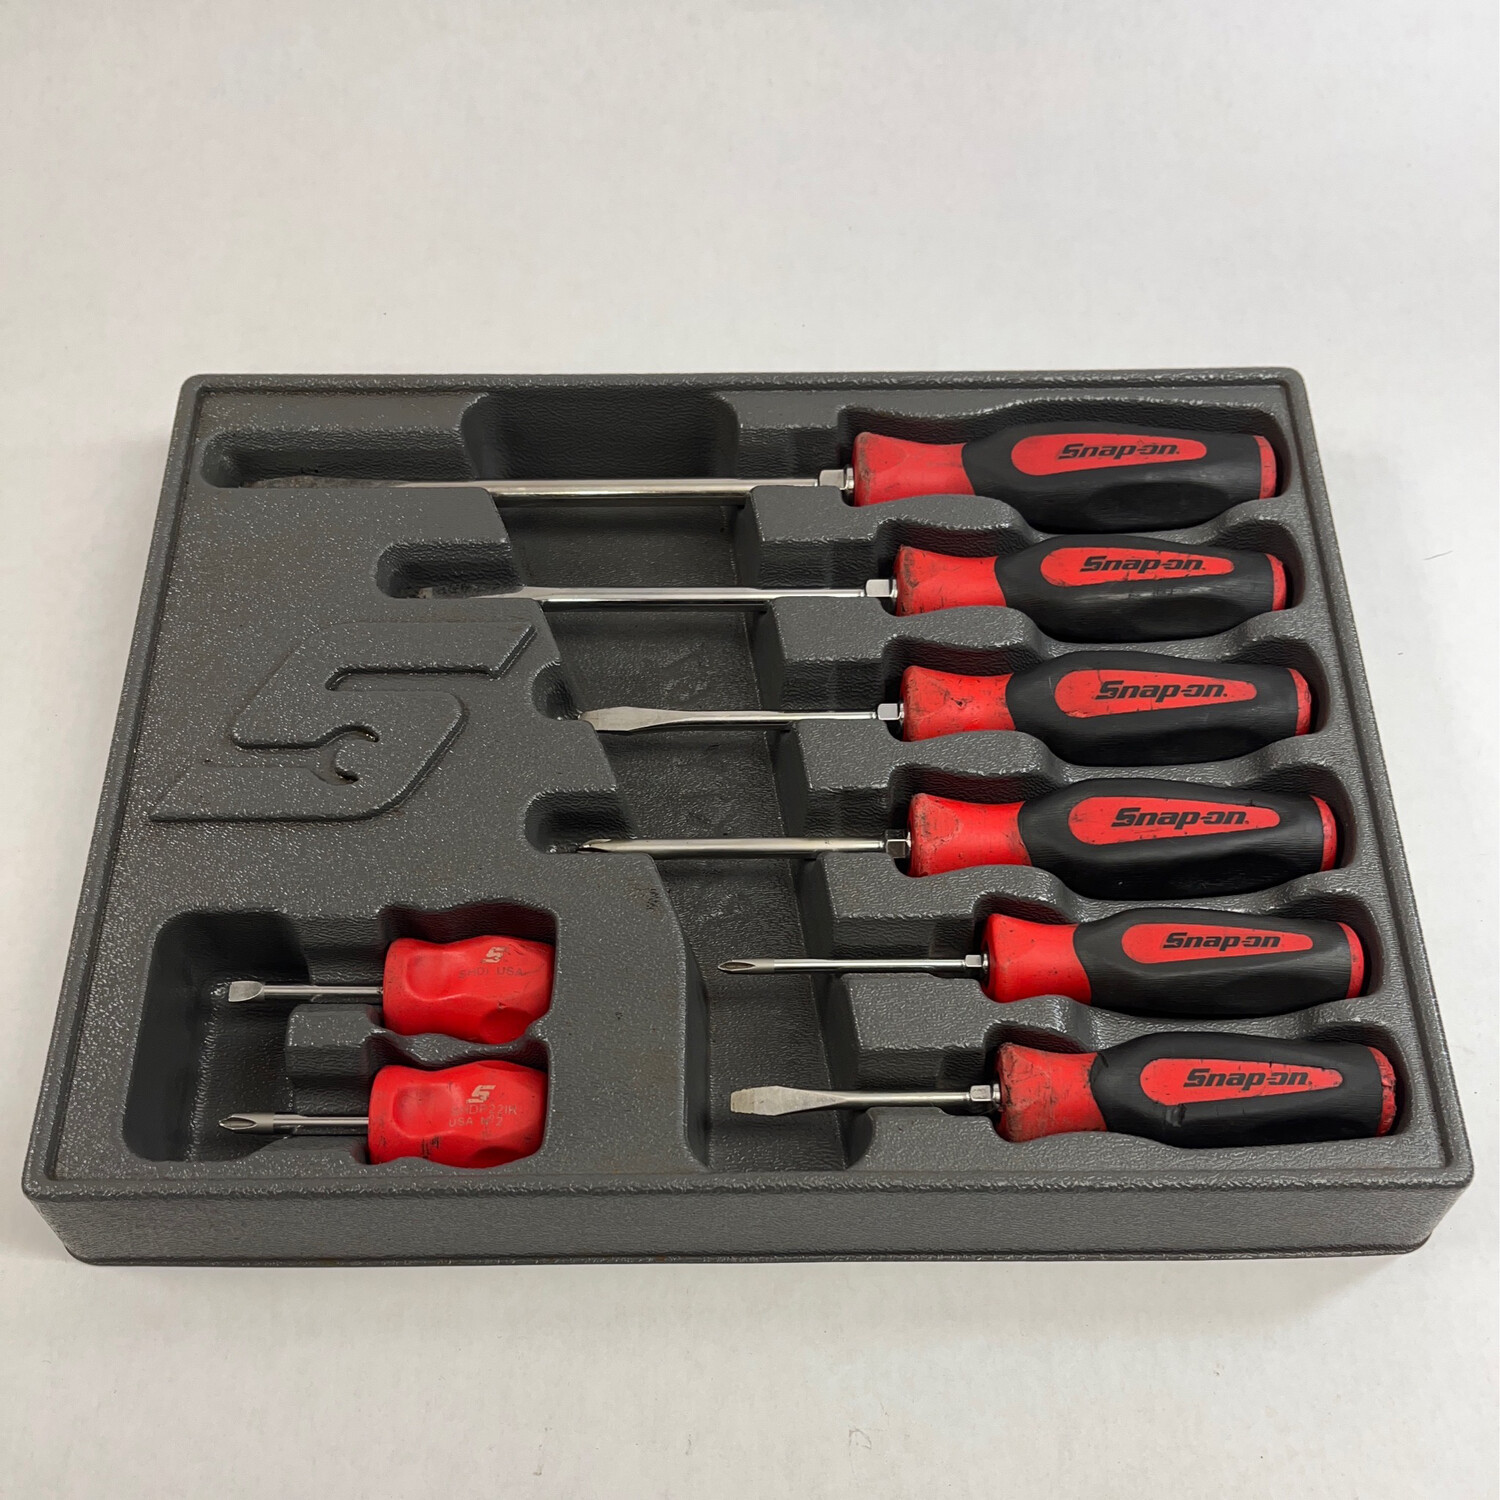screwdriver: (247, 408, 1282, 532), (390, 532, 1297, 637), (556, 777, 1363, 891), (721, 1027, 1397, 1150), (537, 648, 1323, 750), (713, 907, 1387, 1021), (203, 1054, 555, 1172), (206, 930, 571, 1038)
